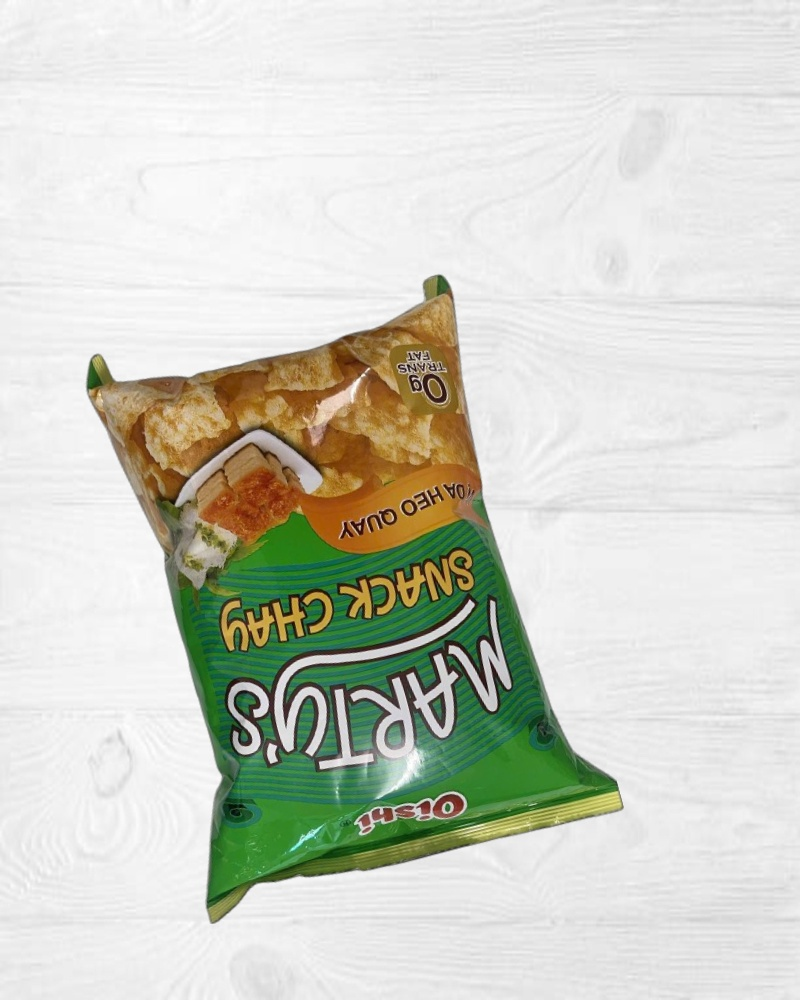Snack chay: (82, 255, 625, 919)
